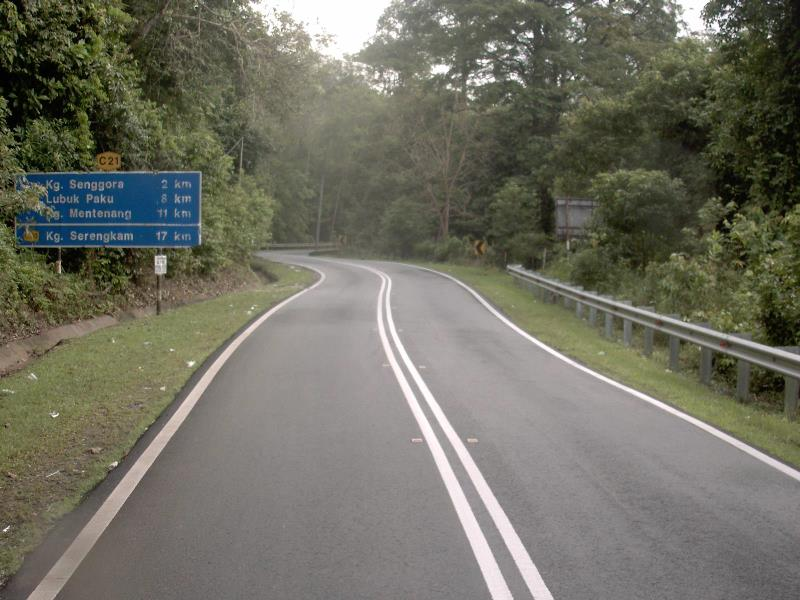traffic_sign: (0, 164, 211, 258)
